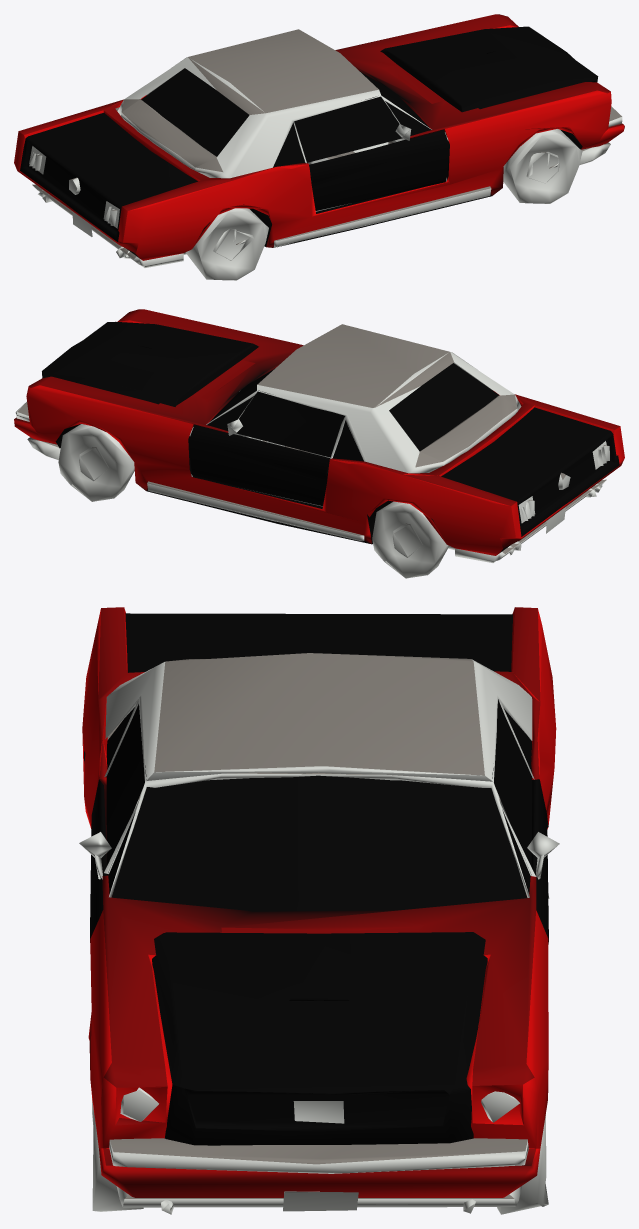
File: musla.fbx
The picture shows the model from 3 angles, top to bottom: view 1: azimuth 30°, elevation 25°; view 2: azimuth 150°, elevation 25°; view 3: azimuth 270°, elevation 25°; orthographic projection. The views are drawn at different scales.
Parts seen in each view (by area): view 1: SM_Mustang_prop5_5_LOD3; view 2: SM_Mustang_prop5_5_LOD3; view 3: SM_Mustang_prop5_5_LOD3.
Part boxes in pixels (<box>): SM_Mustang_prop5_5_LOD3: <box>14,14,624,280</box>; SM_Mustang_prop5_5_LOD3: <box>14,309,624,578</box>; SM_Mustang_prop5_5_LOD3: <box>79,607,559,1214</box>.
Bounding box in the file's own units: 472 × 192 × 131.
